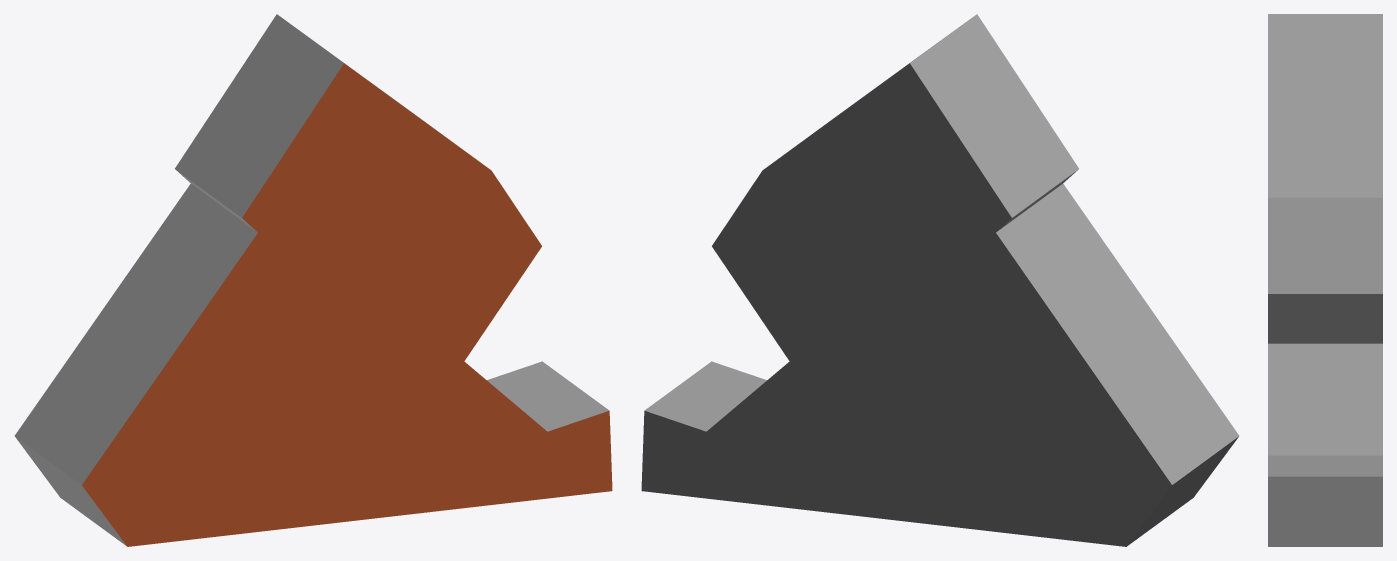
File: construction_2763_assumed_A_Casa_h6m.obj
3 renders of one model, left to right at view 1: azimuth 30°, elevation 25°; view 2: azimuth 150°, elevation 25°; view 3: azimuth 270°, elevation 25°, orthographic. The views are drawn at different scales.
Visible parts, largest first — view 1: construction_2763_assumed_A_Casa; view 2: construction_2763_assumed_A_Casa; view 3: construction_2763_assumed_A_Casa.
Boxes of the visible parts, x1=… form: construction_2763_assumed_A_Casa: x1=14, y1=14, x2=612, y2=546; construction_2763_assumed_A_Casa: x1=641, y1=14, x2=1239, y2=546; construction_2763_assumed_A_Casa: x1=1268, y1=14, x2=1382, y2=546.
Bounding box in the file's own units: 27.32 × 24.27 × 6.
